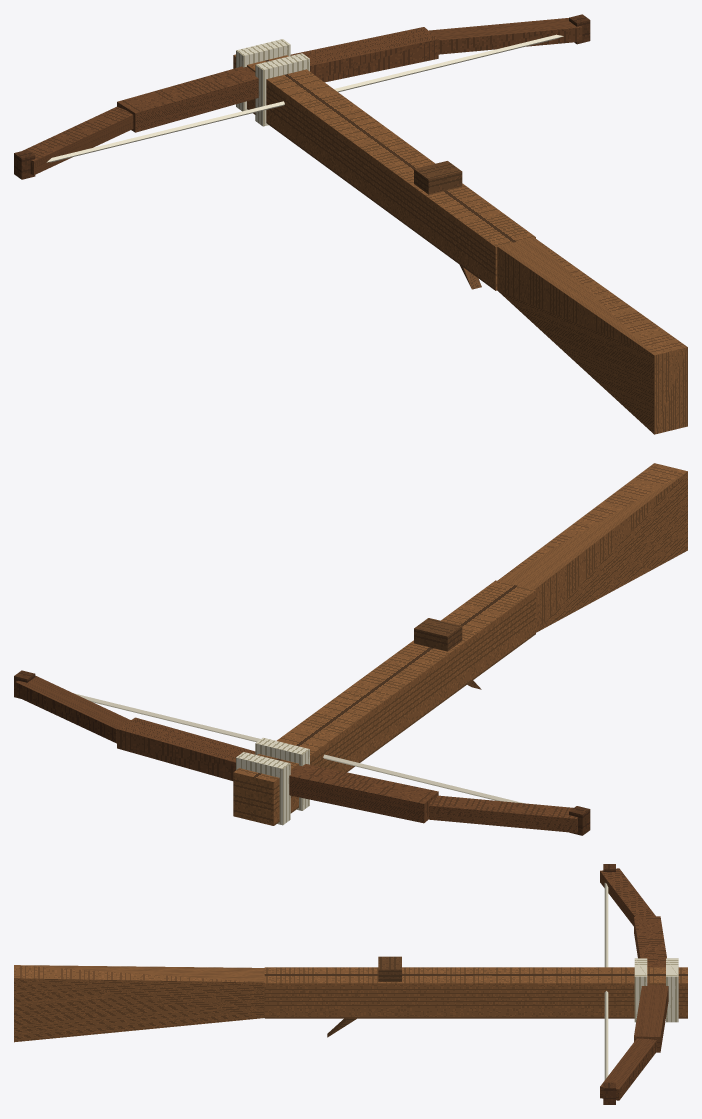
The model's file is crossbow.glb.
3 views of the same model, one above another, from view 1: azimuth 30°, elevation 25°; view 2: azimuth 150°, elevation 25°; view 3: azimuth 270°, elevation 25° (orthographic). The views are drawn at different scales.
Parts seen in each view (by area): view 1: block_tiller, block_butt, block_prod limb (×4), block_prod lashing (×2), block_string (×2), block_nut; view 2: block_tiller, block_prod limb (×4), block_butt, block_prod lashing (×2), block_string (×2), block_nut; view 3: block_tiller, block_butt, block_prod limb (×4), block_prod lashing (×2), block_string (×2), block_nut.
Boxes of the visible parts, x1=… form: block_tiller: x1=233, y1=54, x2=535, y2=290; block_butt: x1=497, y1=237, x2=687, y2=434; block_prod limb (×4): x1=22, y1=18, x2=582, y2=175; block_prod lashing (×2): x1=236, y1=39, x2=309, y2=126; block_string (×2): x1=46, y1=34, x2=563, y2=162; block_nut: x1=414, y1=161, x2=462, y2=194; block_tiller: x1=233, y1=580, x2=535, y2=825; block_prod limb (×4): x1=15, y1=675, x2=577, y2=832; block_butt: x1=497, y1=463, x2=687, y2=632; block_prod lashing (×2): x1=236, y1=737, x2=309, y2=825; block_string (×2): x1=74, y1=693, x2=523, y2=803; block_nut: x1=414, y1=618, x2=462, y2=651; block_tiller: x1=264, y1=967, x2=687, y2=1018; block_butt: x1=14, y1=965, x2=264, y2=1042; block_prod limb (×4): x1=600, y1=868, x2=668, y2=1100; block_prod lashing (×2): x1=634, y1=958, x2=678, y2=1022; block_string (×2): x1=604, y1=883, x2=608, y2=1079; block_nut: x1=378, y1=956, x2=401, y2=981.
Bounding box in the file's own units: 0.676 × 0.102 × 0.86.
1 material, 1 textured.
